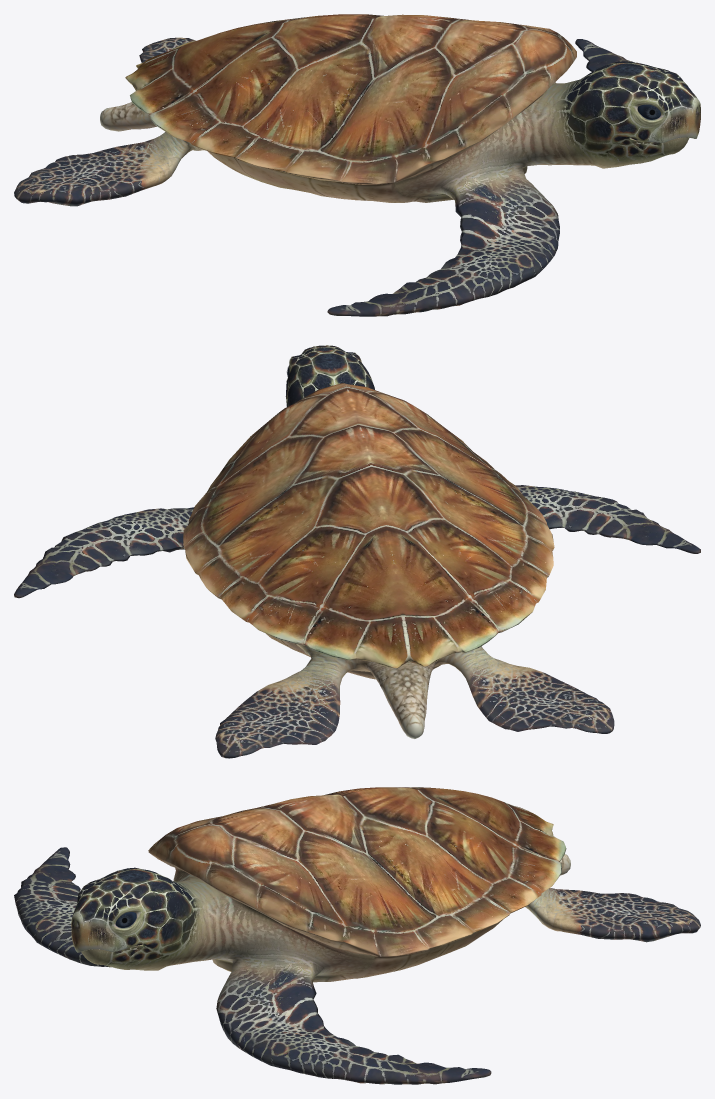
File: turtle_compressed.glb
The picture shows the model from 3 angles, top to bottom: view 1: azimuth 30°, elevation 25°; view 2: azimuth 150°, elevation 25°; view 3: azimuth 270°, elevation 25°; orthographic projection.
Parts seen in each view (by area): view 1: sea_turtle; view 2: sea_turtle; view 3: sea_turtle.
Part boxes in pixels (x1,y1,x2,y2): sea_turtle: [14, 14, 700, 316]; sea_turtle: [14, 345, 700, 758]; sea_turtle: [14, 787, 700, 1084].
Size of the model in its own units: 3.69 by 0.9865 by 3.73.
Materials: 2 (2 with a texture image).
